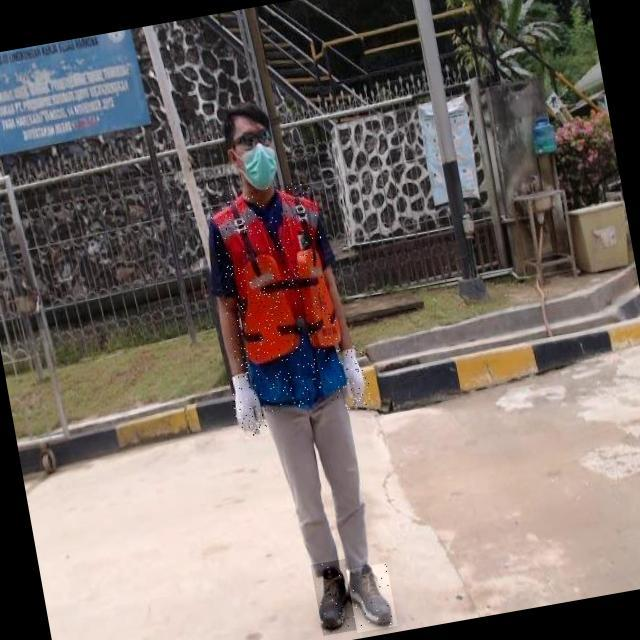Safety Boot: (311, 559, 358, 636), (346, 563, 397, 633)
Safety Vest: (206, 180, 349, 416)
